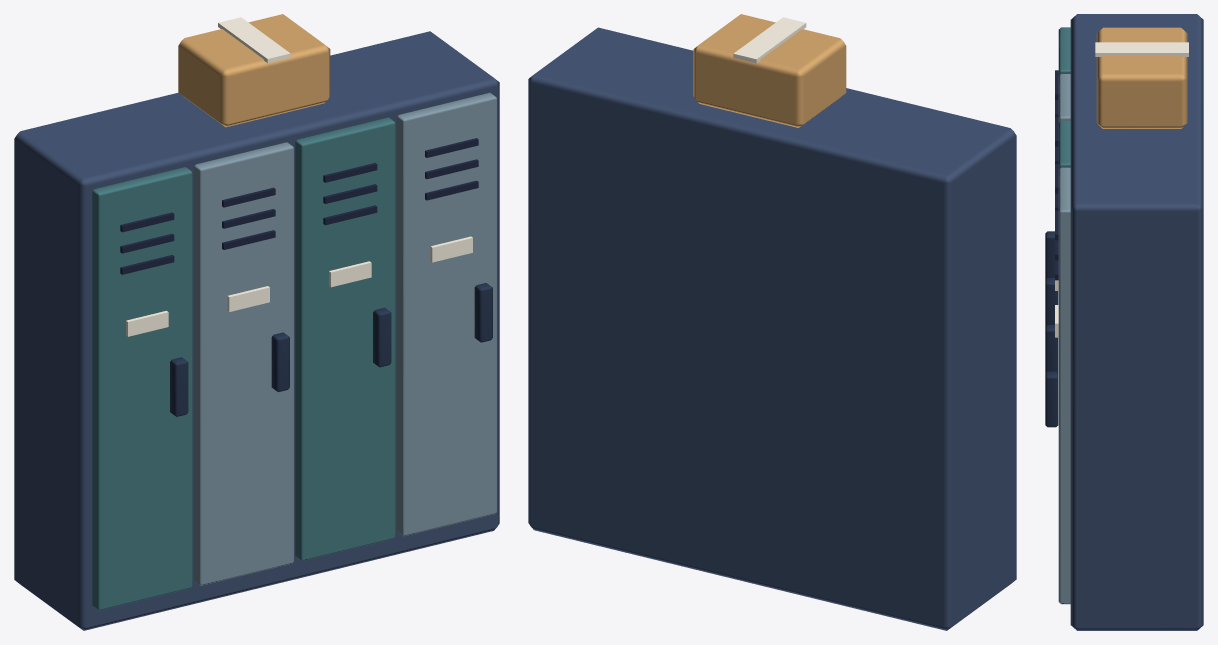
Rendered from locker.glb.
The picture shows the model from 3 angles, left to right: view 1: azimuth 30°, elevation 25°; view 2: azimuth 150°, elevation 25°; view 3: azimuth 270°, elevation 25°; orthographic projection. The views are drawn at different scales.
Parts seen in each view (by area): view 1: locker; view 2: locker; view 3: locker.
Boxes of the visible parts, x1,y1,x2,y2 form: locker: (14, 14, 499, 630); locker: (528, 14, 1016, 630); locker: (1045, 14, 1203, 630).
Bounding box in the file's own units: 1.87 × 2.19 × 0.6435.
